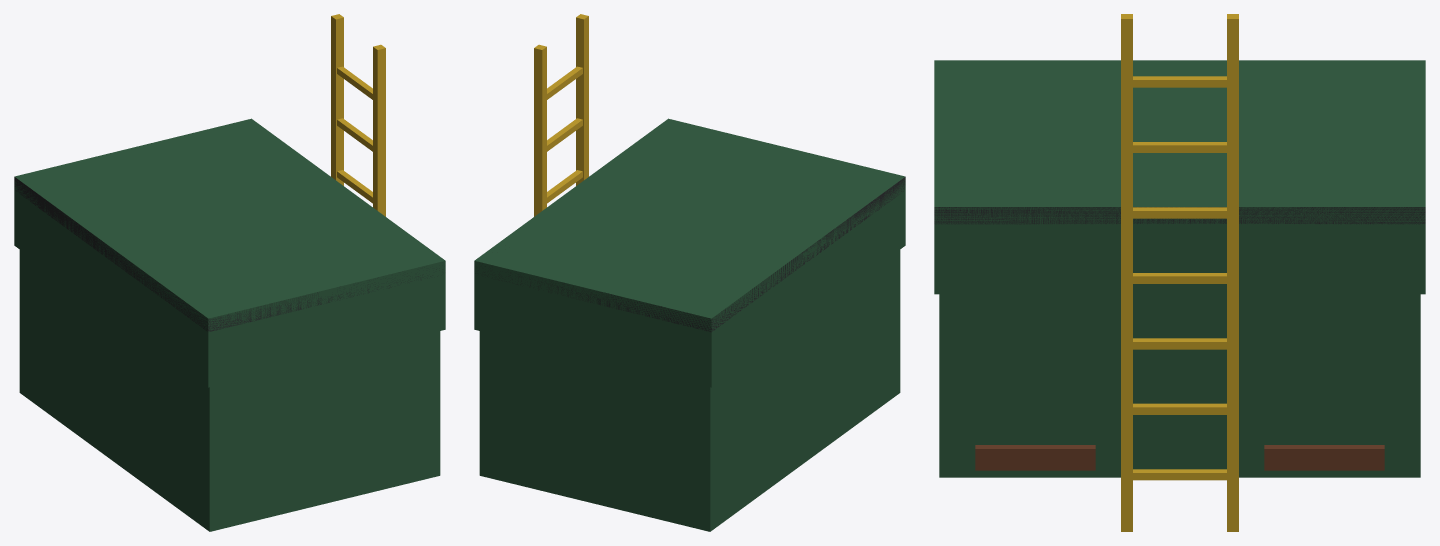
File: dumpster_climb.glb
3 renders of one model, left to right at view 1: azimuth 30°, elevation 25°; view 2: azimuth 150°, elevation 25°; view 3: azimuth 270°, elevation 25°, orthographic. The views are drawn at different scales.
Visible parts, largest first — view 1: dumpster_climb; view 2: dumpster_climb; view 3: dumpster_climb.
Boxes of the visible parts, <box> form: dumpster_climb: <box>14,14,445,531</box>; dumpster_climb: <box>474,14,905,531</box>; dumpster_climb: <box>934,14,1425,531</box>.
Size of the model in its own units: 1.52 by 2.35 by 2.04.
